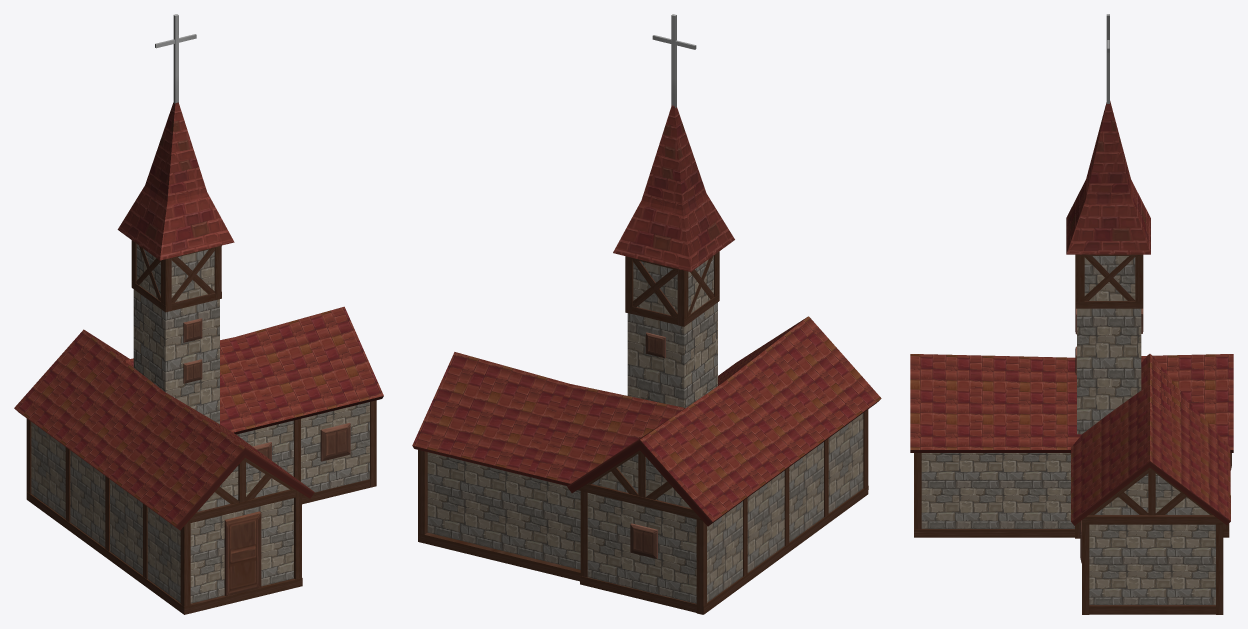
File: OutdoorM_church.FBX
3 views of the same model, side by side, from view 1: azimuth 30°, elevation 25°; view 2: azimuth 150°, elevation 25°; view 3: azimuth 270°, elevation 25° (orthographic). The views are drawn at different scales.
Visible parts, largest first — view 1: OutdoorM_church; view 2: OutdoorM_church; view 3: OutdoorM_church.
Part boxes in pixels (bbox=[...]): OutdoorM_church: bbox=[14, 14, 383, 614]; OutdoorM_church: bbox=[412, 14, 881, 614]; OutdoorM_church: bbox=[910, 14, 1233, 614].
Size of the model in its own units: 80.31 by 135 by 77.72.
